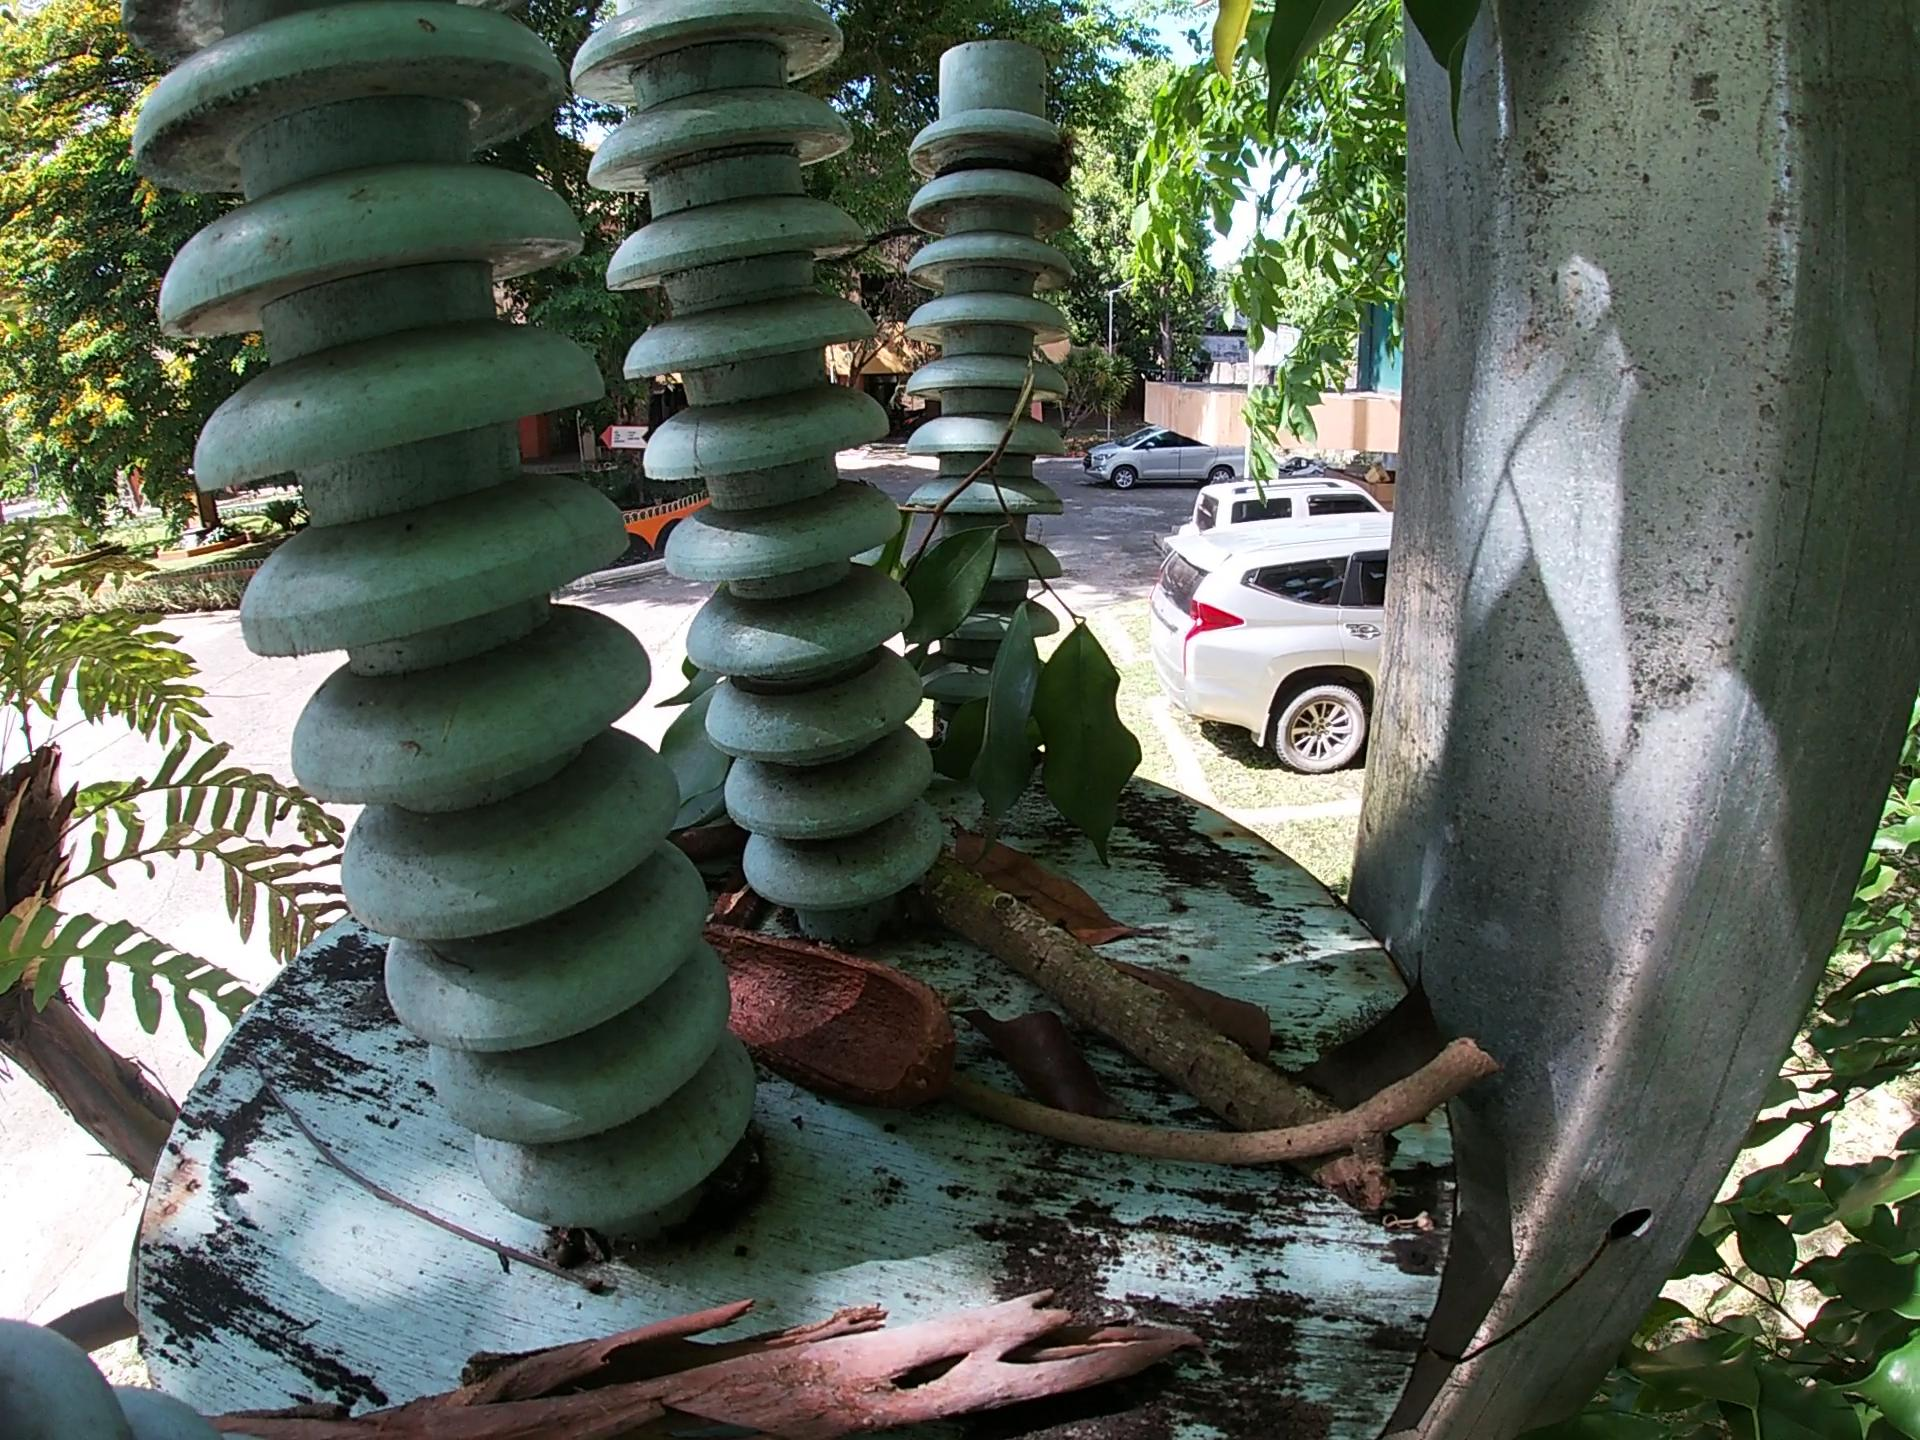branch with leaves: (872, 342, 1150, 898)
leaf: (655, 605, 760, 864), (951, 992, 1147, 1116), (958, 827, 1147, 951), (1306, 945, 1448, 1094), (1093, 942, 1281, 1051)
mahogany fruit: (697, 909, 993, 1110)
tree branch: (919, 846, 1421, 1215), (187, 1280, 1268, 1435), (234, 1047, 632, 1321), (940, 1027, 1509, 1163)
